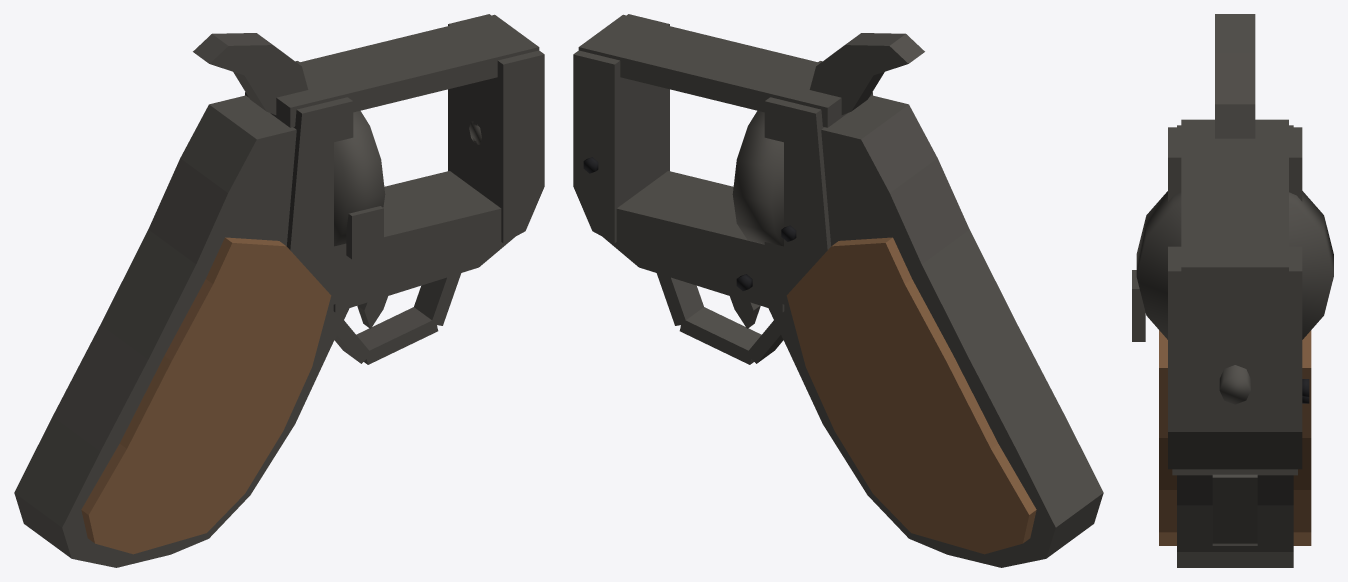
The model's file is colt_saa_base.fbx.
3 views of the same model, side by side, from view 1: azimuth 30°, elevation 25°; view 2: azimuth 150°, elevation 25°; view 3: azimuth 270°, elevation 25° (orthographic). The views are drawn at different scales.
Visible parts, largest first — view 1: colt_saa_base; view 2: colt_saa_base; view 3: colt_saa_base.
Part boxes in pixels (box(x1,y1,x2,y2)): colt_saa_base: box(14, 14, 544, 567); colt_saa_base: box(573, 14, 1103, 567); colt_saa_base: box(1132, 14, 1333, 567).
Bounding box in the file's own units: 0.156 × 0.1435 × 0.045.
